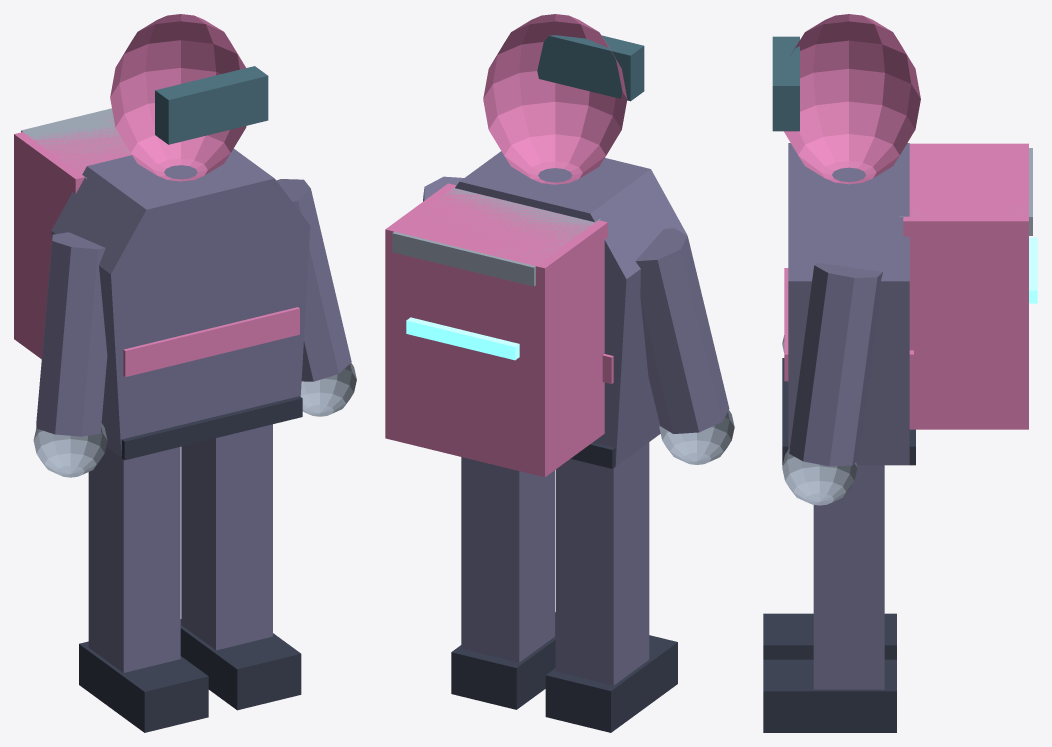
File: neon-dispatch-static-street-courier__175.glb
3 renders of one model, left to right at view 1: azimuth 30°, elevation 25°; view 2: azimuth 150°, elevation 25°; view 3: azimuth 270°, elevation 25°, orthographic.
Parts seen in each view (by area): view 1: shell, accent, dark, metal, glass; view 2: shell, accent, dark, metal, glass, light; view 3: accent, shell, dark, metal, glass, light.
Part boxes in pixels (bbox=[...]): shell: bbox=[36, 148, 351, 672]; accent: bbox=[14, 14, 299, 376]; dark: bbox=[79, 396, 302, 732]; metal: bbox=[21, 108, 356, 477]; glass: bbox=[155, 66, 268, 144]; shell: bbox=[423, 151, 729, 685]; accent: bbox=[385, 14, 627, 477]; dark: bbox=[451, 442, 677, 732]; metal: bbox=[392, 187, 734, 464]; glass: bbox=[537, 35, 644, 101]; light: bbox=[406, 317, 519, 360]; accent: bbox=[784, 14, 1028, 429]; shell: bbox=[788, 143, 909, 689]; dark: bbox=[763, 358, 915, 732]; metal: bbox=[782, 148, 1032, 505]; glass: bbox=[772, 36, 799, 131]; light: bbox=[1029, 237, 1037, 303].
Size of the model in its own units: 0.88 by 1.78 by 0.656.
